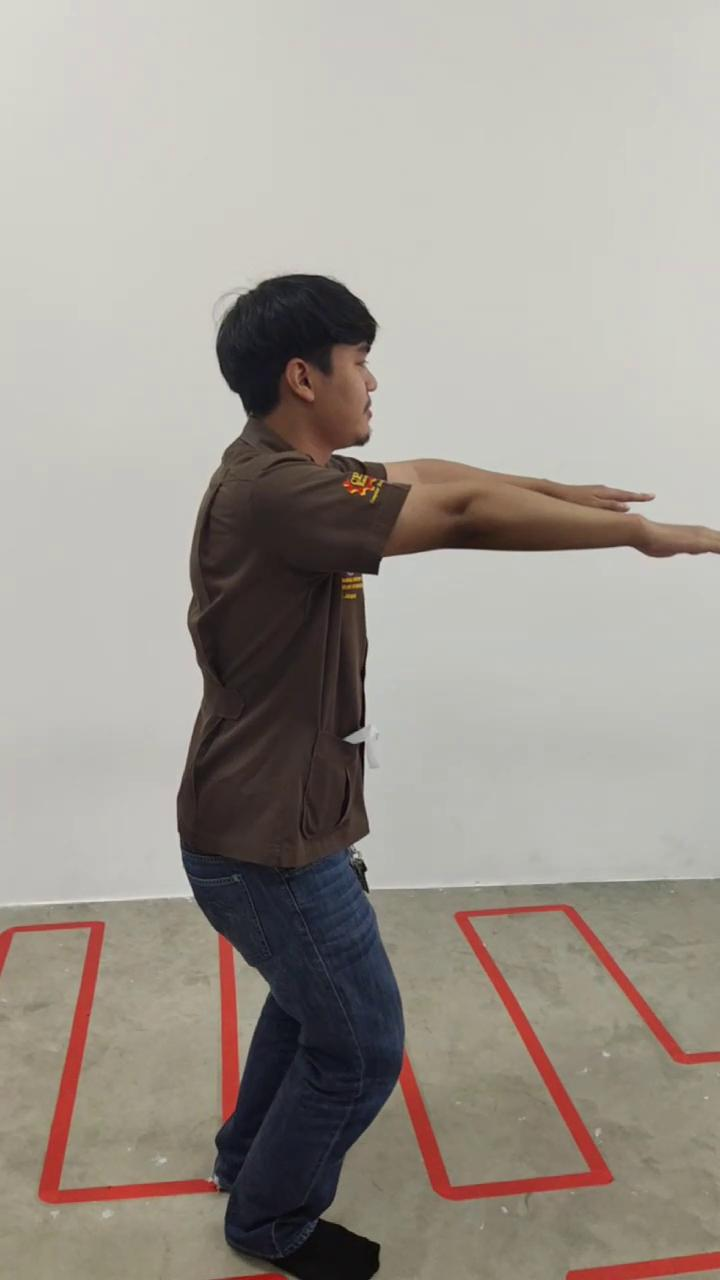squat up: (178, 275, 718, 1280)
